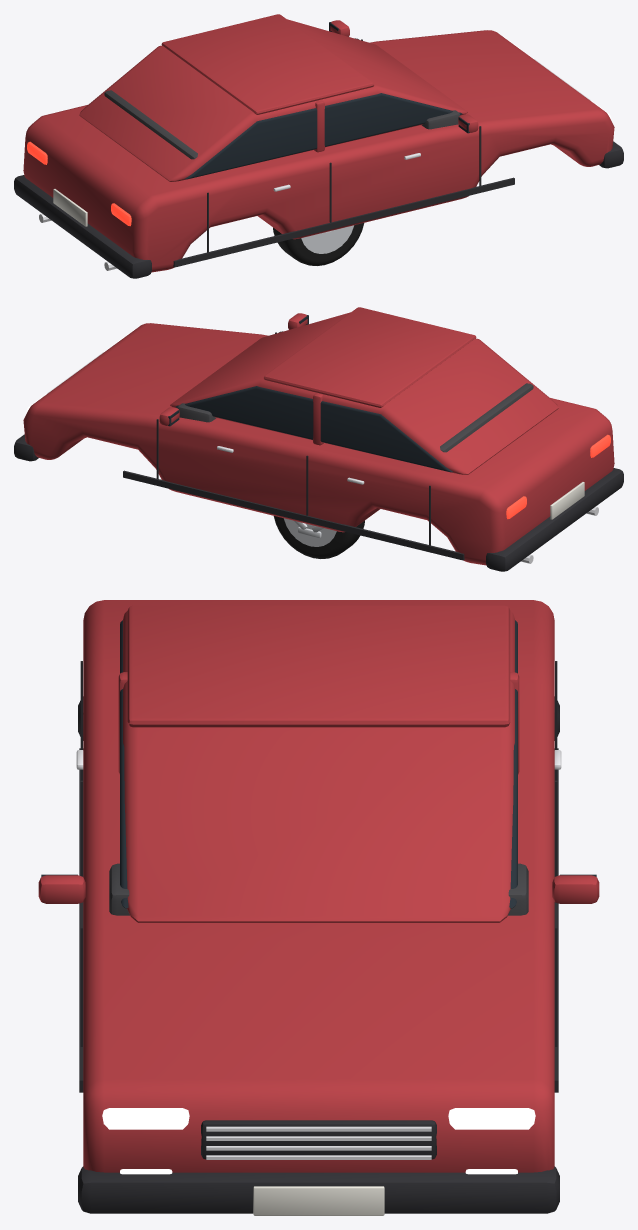
File: voiture.glb
3 views of the same model, one above another, from view 1: azimuth 30°, elevation 25°; view 2: azimuth 150°, elevation 25°; view 3: azimuth 270°, elevation 25° (orthographic). The views are drawn at different scales.
Parts seen in each view (by area): view 1: voiture_caisse, voiture_roue; view 2: voiture_caisse, voiture_roue; view 3: voiture_caisse.
Boxes of the visible parts, <box> form: voiture_caisse: <box>14,14,623,278</box>; voiture_roue: <box>273,223,364,265</box>; voiture_caisse: <box>14,307,623,571</box>; voiture_roue: <box>273,516,364,558</box>; voiture_caisse: <box>38,600,599,1215</box>.
Bounding box in the file's own units: 4.4 × 1.78 × 2.14.
